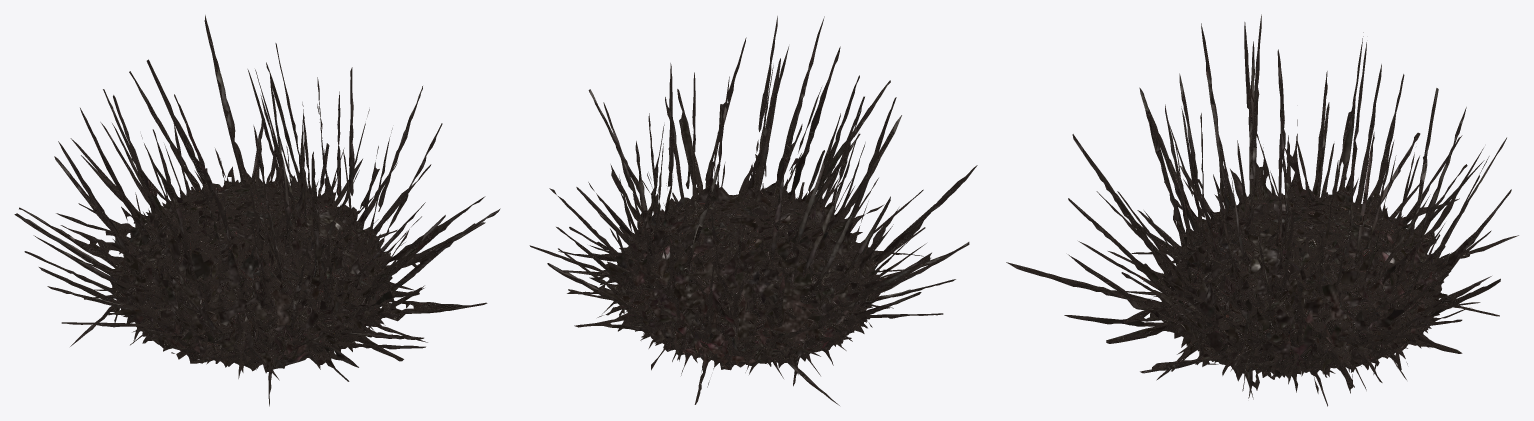
File: urchin.glb
3 views of the same model, side by side, from view 1: azimuth 30°, elevation 25°; view 2: azimuth 150°, elevation 25°; view 3: azimuth 270°, elevation 25° (orthographic). The views are drawn at different scales.
Parts seen in each view (by area): view 1: Object_6; view 2: Object_6; view 3: Object_6.
Boxes of the visible parts, box(x1,y1,x2,y2) form: Object_6: box(14, 15, 500, 406); Object_6: box(529, 16, 977, 405); Object_6: box(1006, 14, 1518, 406).
Bounding box in the file's own units: 0.9557 × 0.7037 × 1.
Materials: 1 (1 with a texture image).
